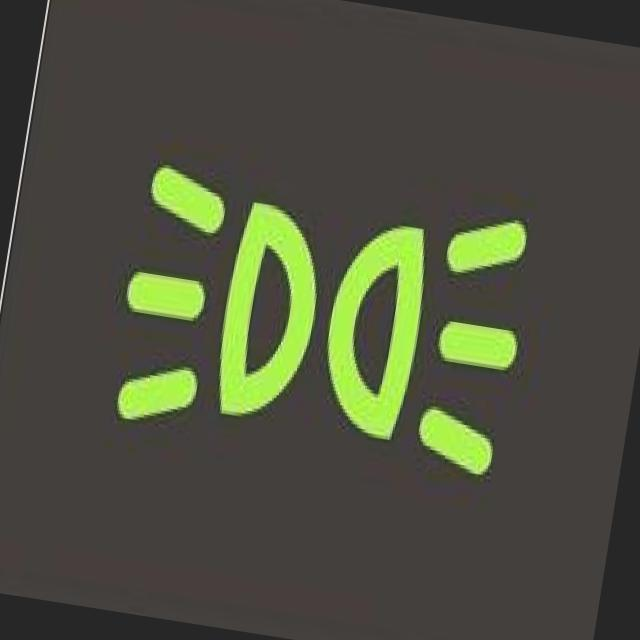kontrolka: (89, 117, 564, 516)
